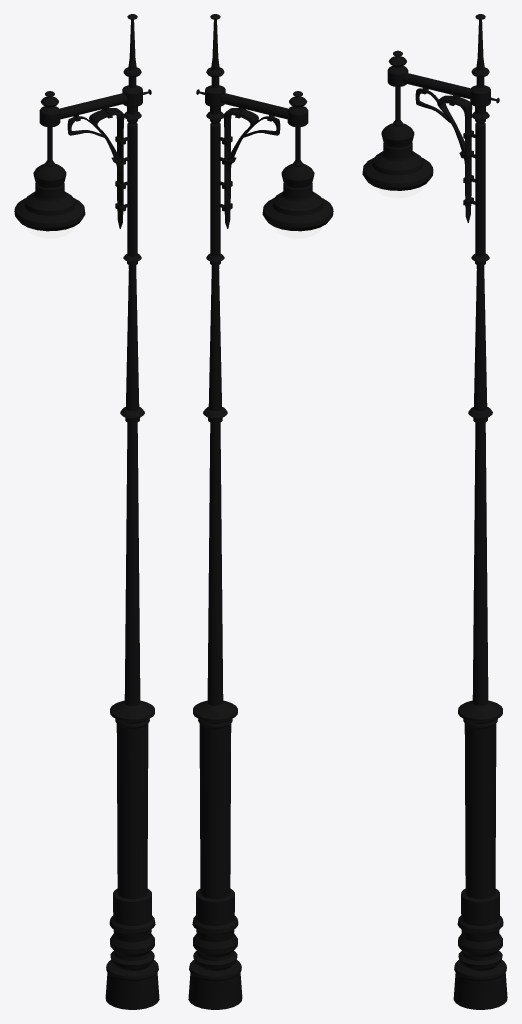
File: p_street_lamp.glb
3 renders of one model, left to right at view 1: azimuth 30°, elevation 25°; view 2: azimuth 150°, elevation 25°; view 3: azimuth 330°, elevation 25°, orthographic.
Parts seen in each view (by area): view 1: polySurface12; view 2: polySurface12; view 3: polySurface12.
Part boxes in pixels (x1,y1,x2,y2): polySurface12: (14,14,159,1009); polySurface12: (188,14,333,1009); polySurface12: (362,14,507,1009).
Size of the model in its own units: 7.11 by 48.78 by 3.21.
2 materials, 1 textured.
